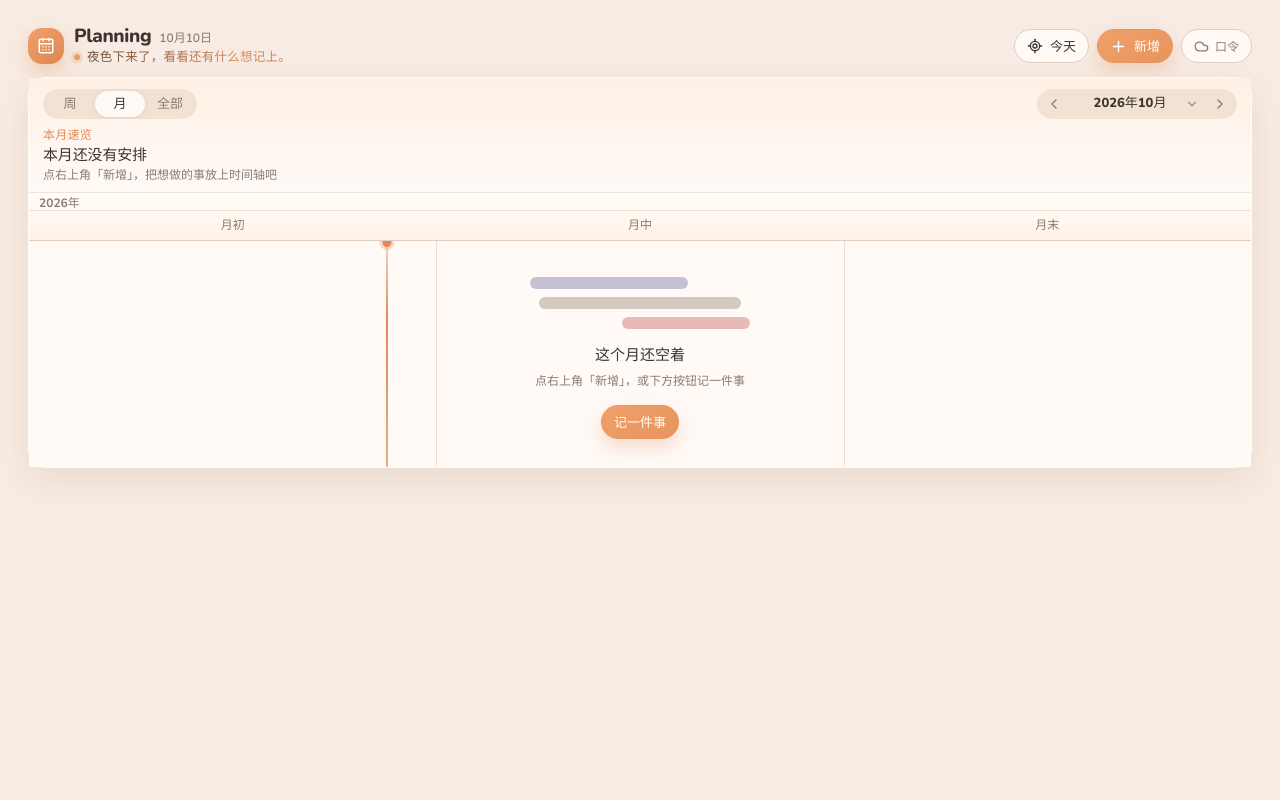
Test: Planning › restores an end date when ongoing is turned off
Click the button with aria-label "新增事项": (1135, 46) [1097, 29, 1173, 63]
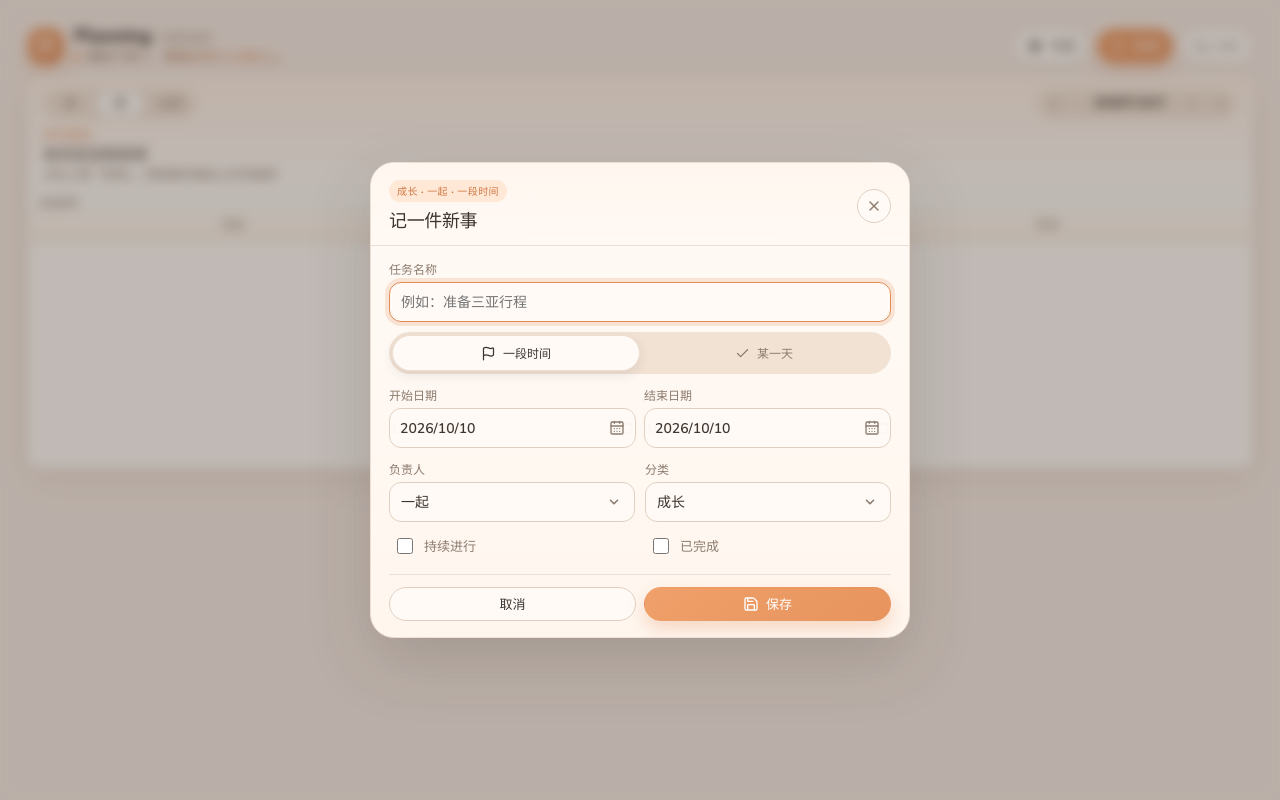
Click the checkbox labelled "持续进行": (405, 546) [397, 538, 413, 554]
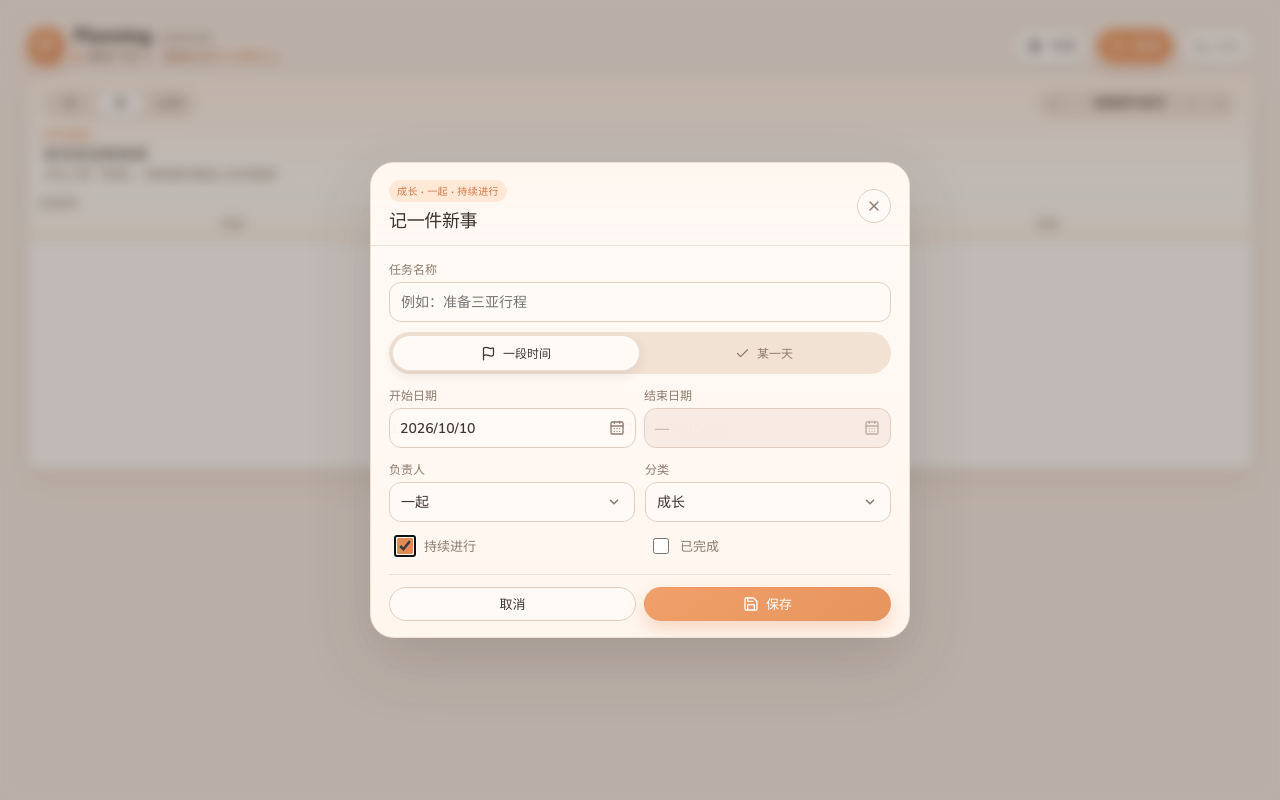
Click the checkbox labelled "持续进行": (405, 546) [397, 538, 413, 554]
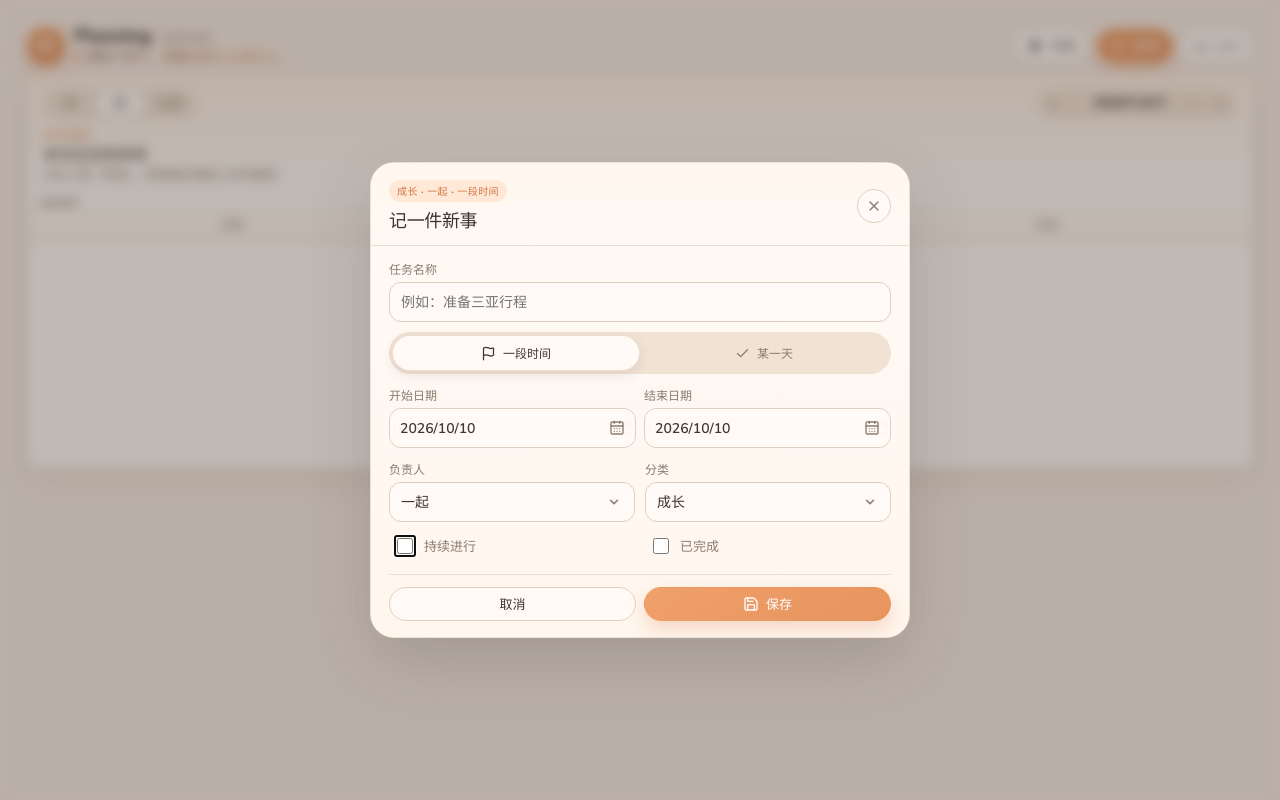
Expected: the date field labelled "结束日期" is enabled, [644, 408, 891, 448]
